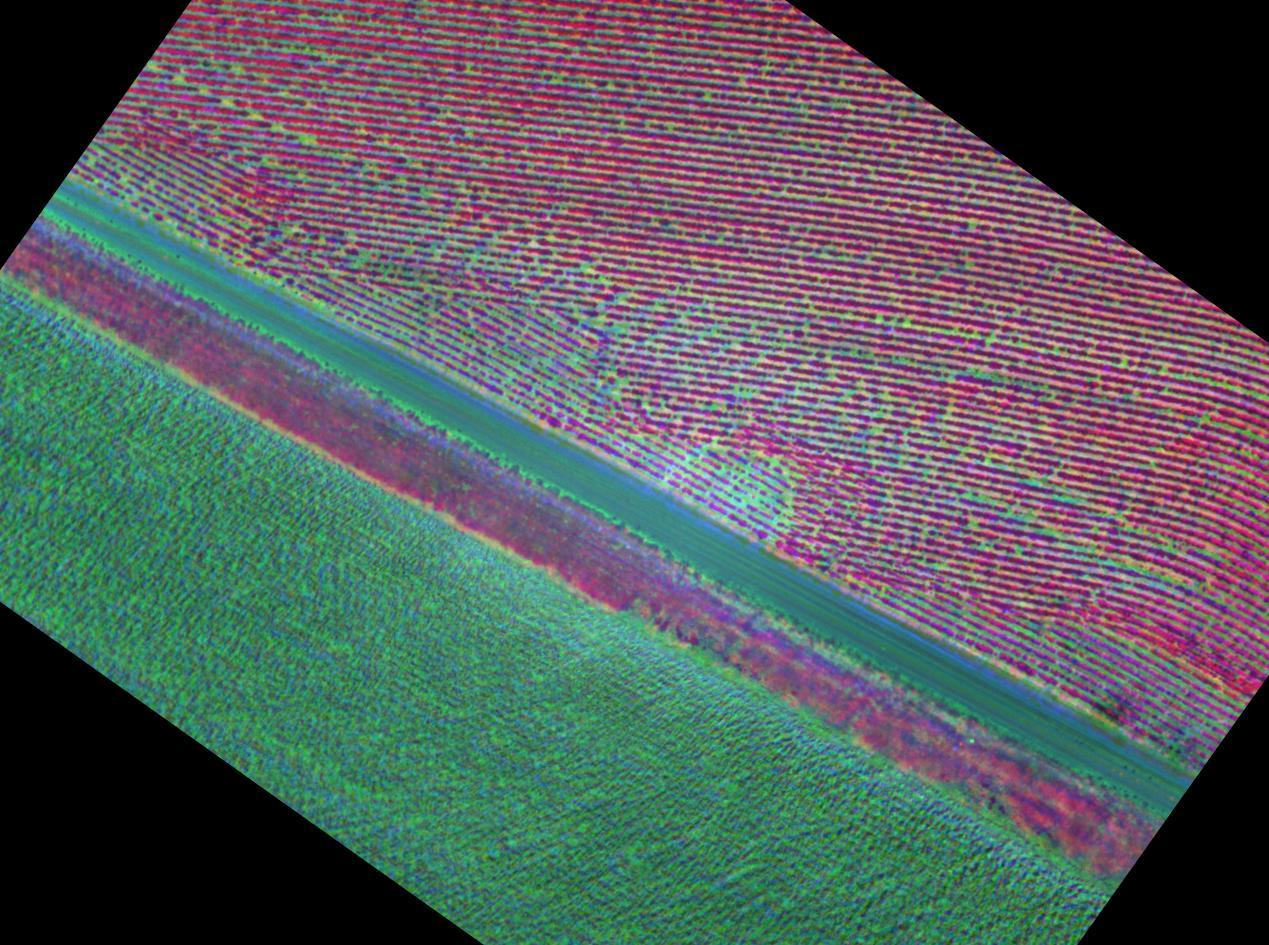dc: (426, 286, 431, 292), (122, 179, 127, 184), (306, 135, 311, 139), (224, 98, 228, 102), (263, 158, 267, 162), (1204, 417, 1208, 421), (718, 240, 722, 243), (655, 306, 659, 309), (599, 317, 602, 321)
